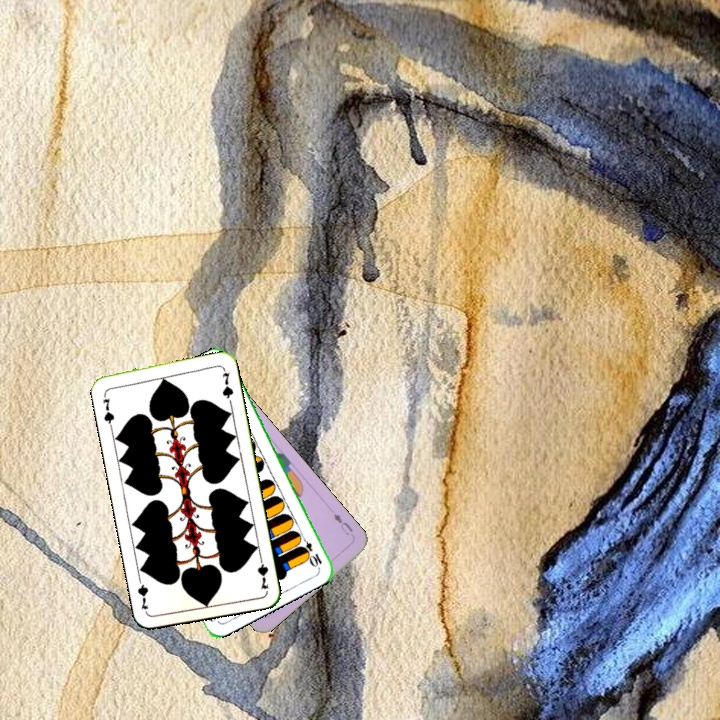E10: (296, 531, 325, 569)
EU: (329, 509, 356, 538)
G7: (98, 389, 117, 429), (253, 551, 271, 592)
